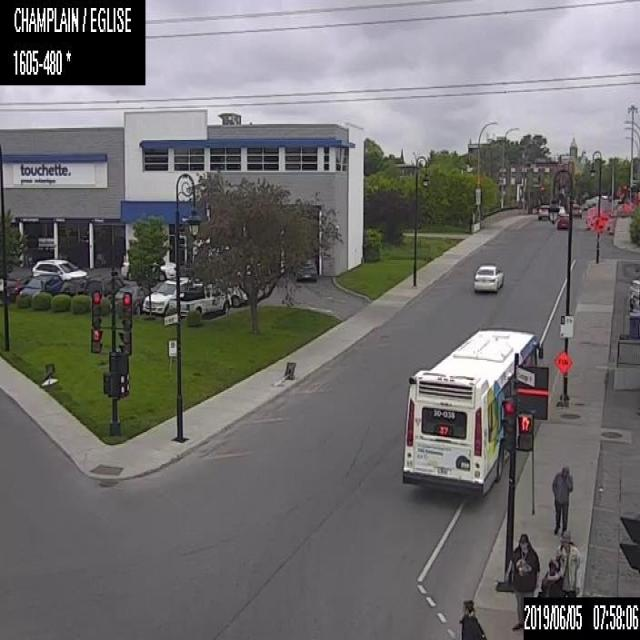bus: (400, 327, 542, 497)
construction: (554, 346, 572, 408), (272, 362, 295, 388), (40, 361, 55, 386), (593, 218, 603, 231), (589, 210, 593, 224), (586, 214, 590, 228), (585, 210, 588, 222)
pedestrian: (507, 532, 540, 631), (554, 532, 580, 597), (552, 466, 573, 534), (458, 597, 487, 639), (537, 555, 566, 597)
vehicle: (142, 275, 203, 315), (169, 284, 231, 316), (120, 255, 176, 281), (31, 258, 87, 278), (19, 273, 62, 298), (114, 284, 149, 314), (84, 274, 125, 296), (6, 273, 34, 301), (473, 263, 502, 289), (60, 274, 91, 296), (296, 257, 317, 282), (229, 284, 248, 307), (536, 202, 548, 218), (557, 212, 568, 229), (571, 203, 581, 216), (556, 205, 564, 212)
